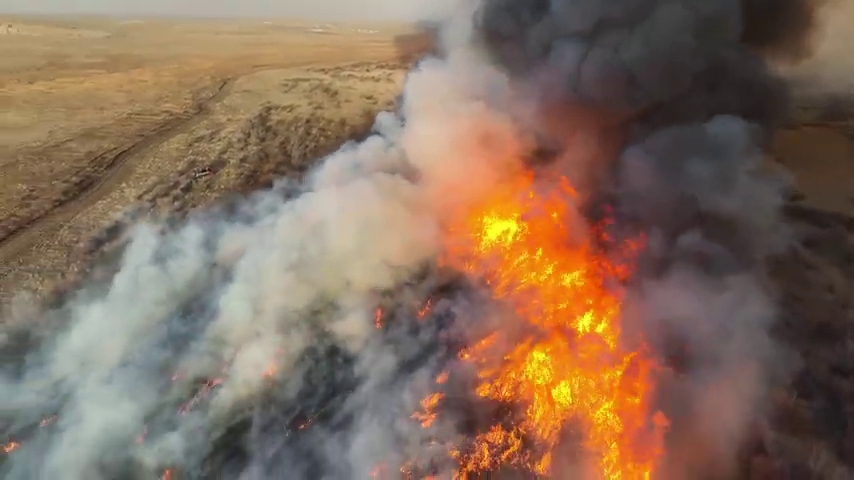forest_fire: (441, 173, 666, 479), (412, 391, 449, 427)
